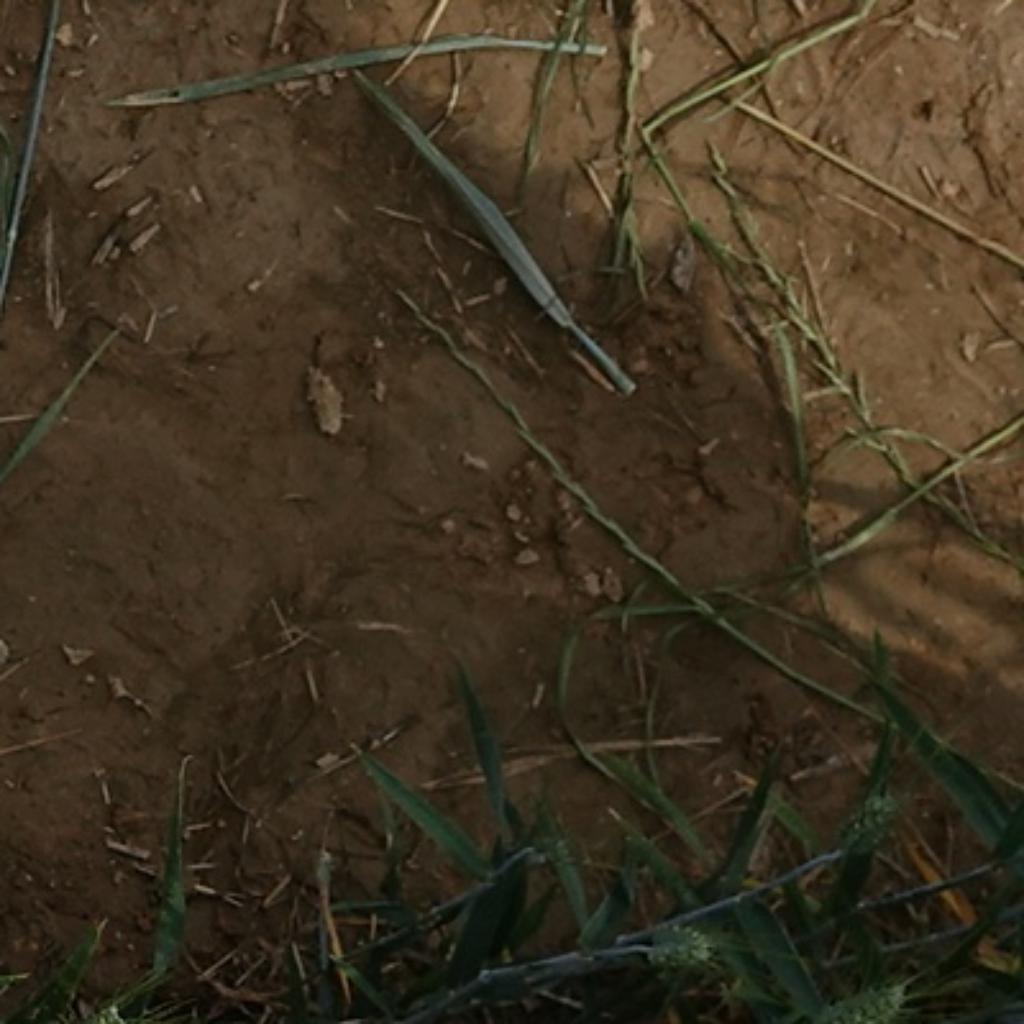0-0: (812, 975, 919, 1024), (835, 791, 905, 854), (647, 916, 715, 978)
